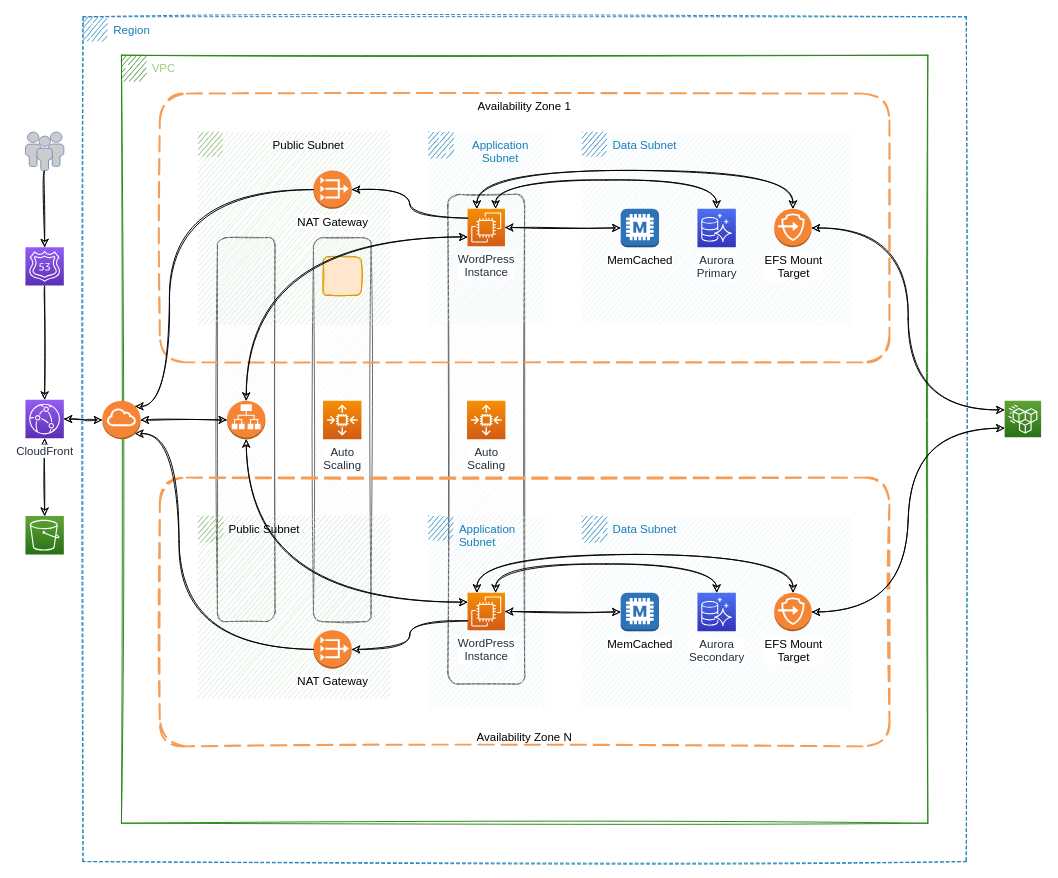
Some shapes in this 1058 by 878 pixel diagram are drawn without their labels. The centre of each missing label's shape, as x and y in pixels:
"Application Load Balancer" belongs at point 245,419.
"Bastion" belongs at point 341,275.
"EFS" belongs at point 1022,418.
"Internet Gateway" belongs at point 121,419.
"Route 53" belongs at point 44,266.
"S3" belongs at point 44,534.
